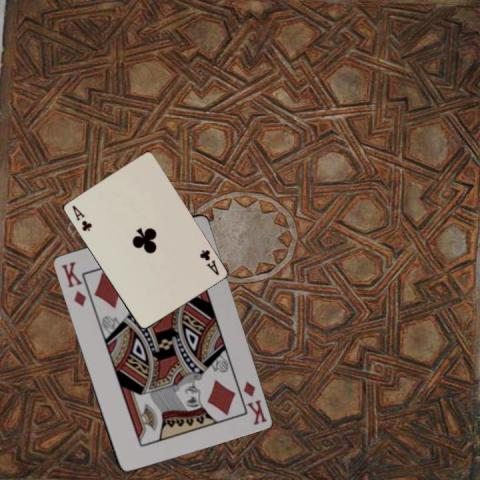Ac: (68, 202, 92, 233), (197, 246, 220, 276)
Kd: (57, 258, 88, 308), (239, 378, 268, 427)
